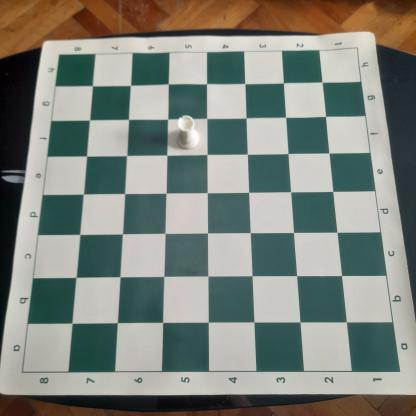white-rook: (176, 114, 200, 150)
